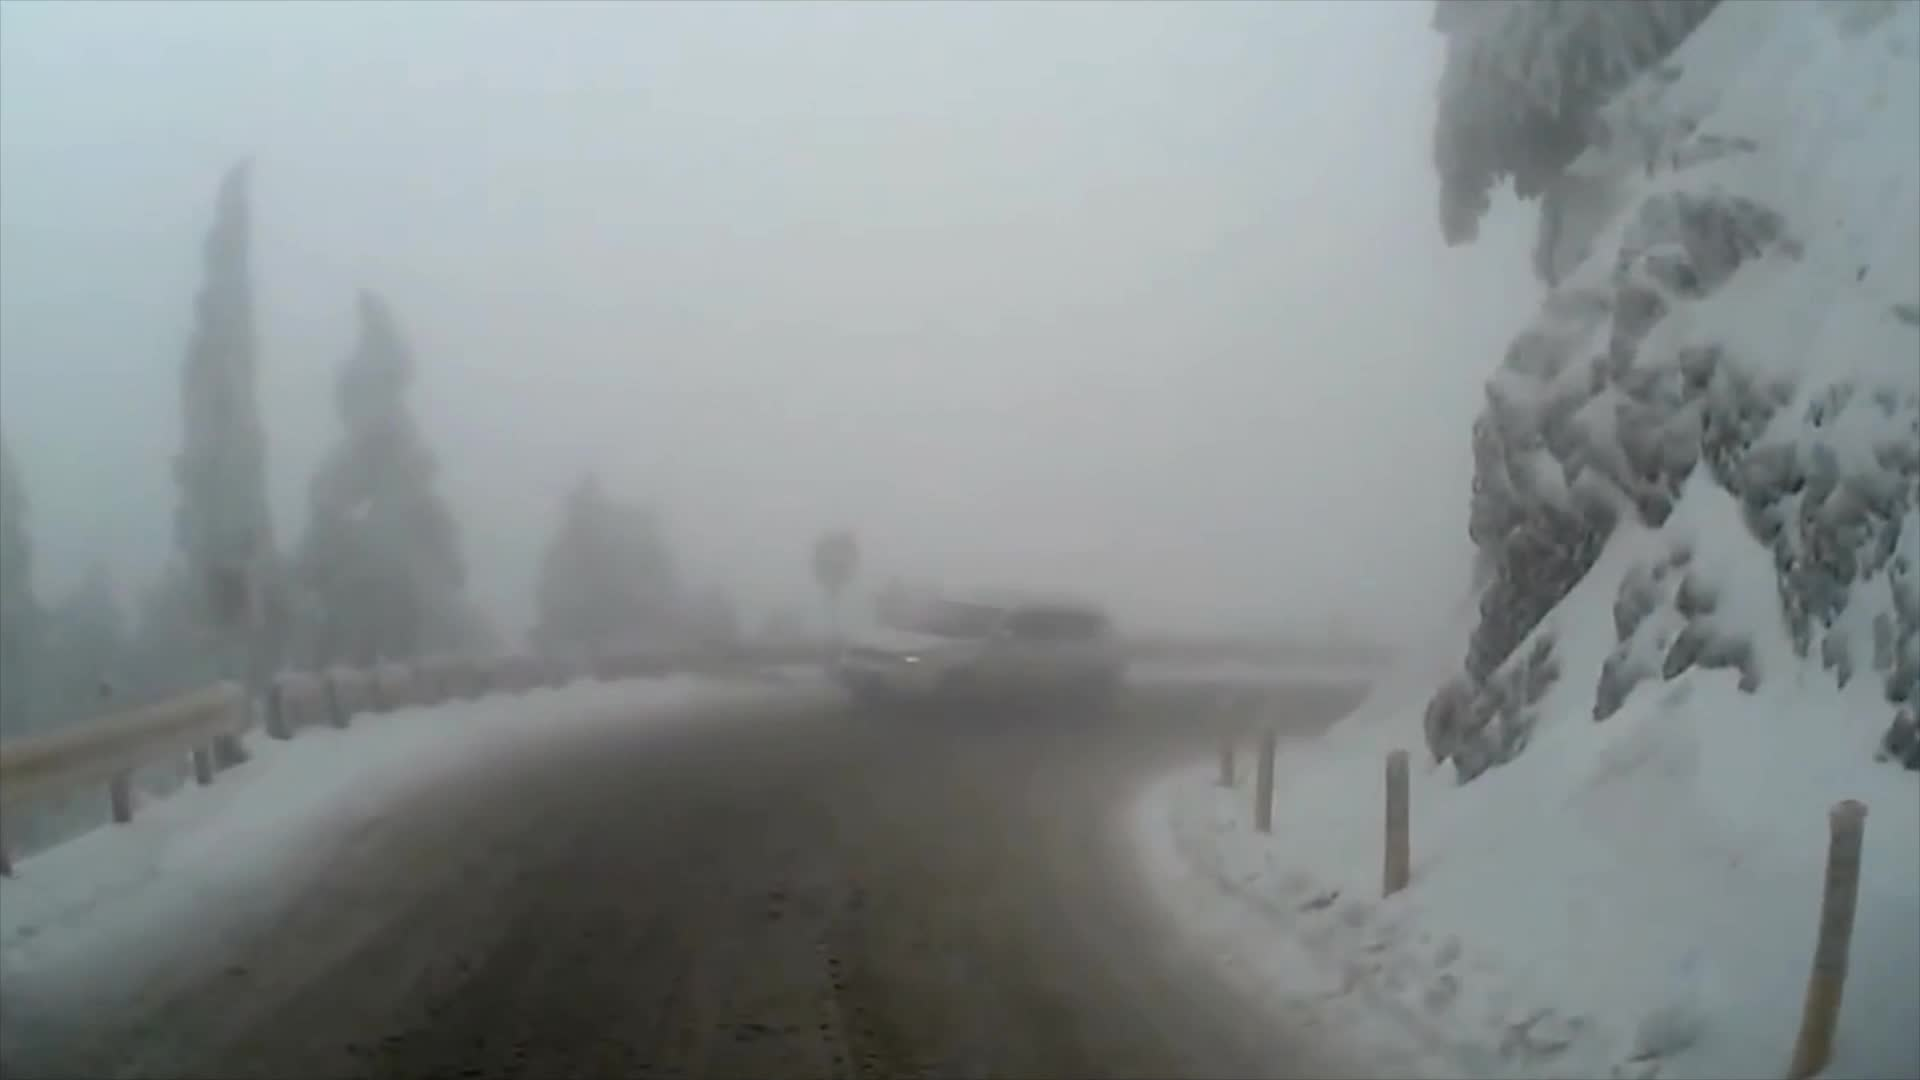vehicle: (832, 589, 1124, 731)
